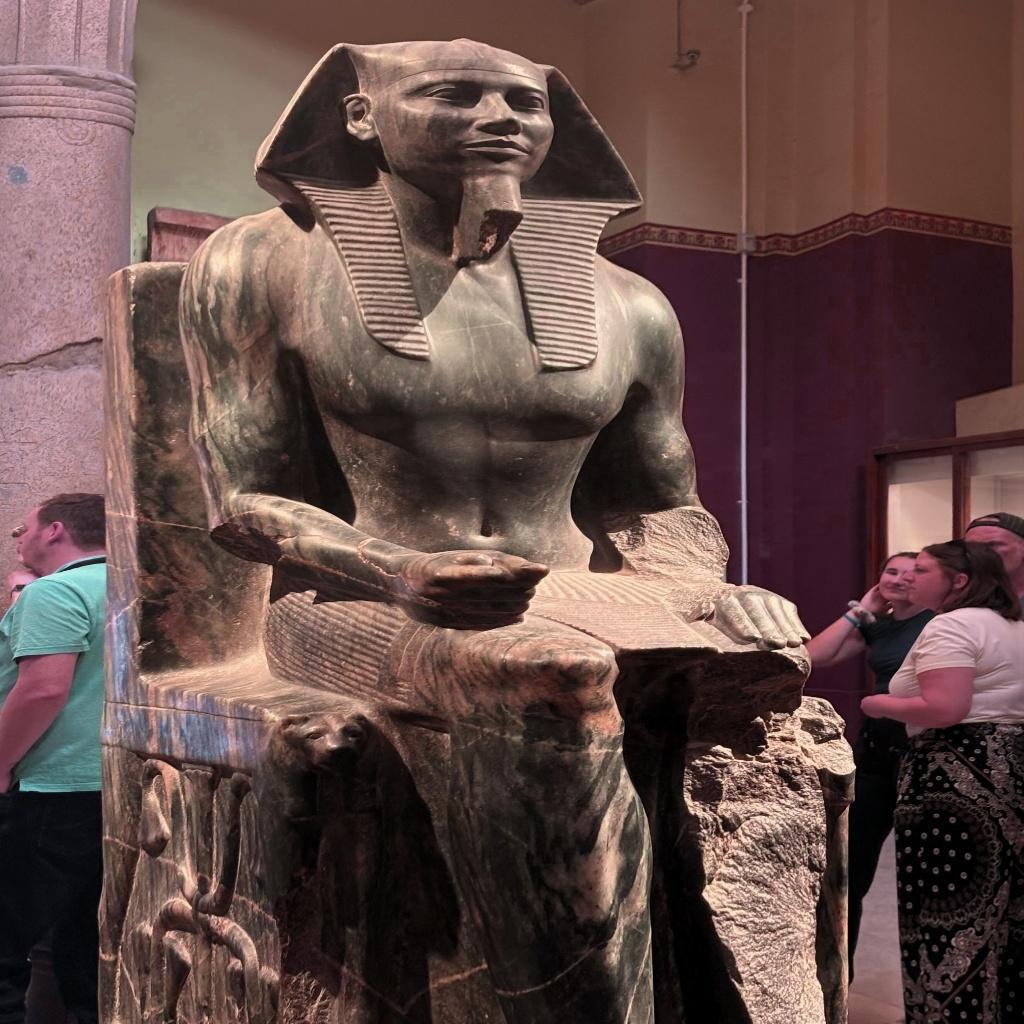Statue of Khafre: (198, 38, 859, 1010)
